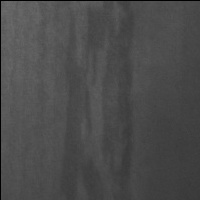inclusion: (60, 1, 132, 200)
